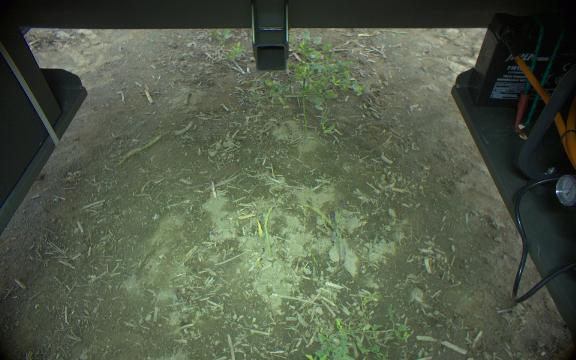aspa: (121, 134, 163, 165), (328, 211, 344, 263), (332, 200, 345, 243), (143, 87, 155, 104)
